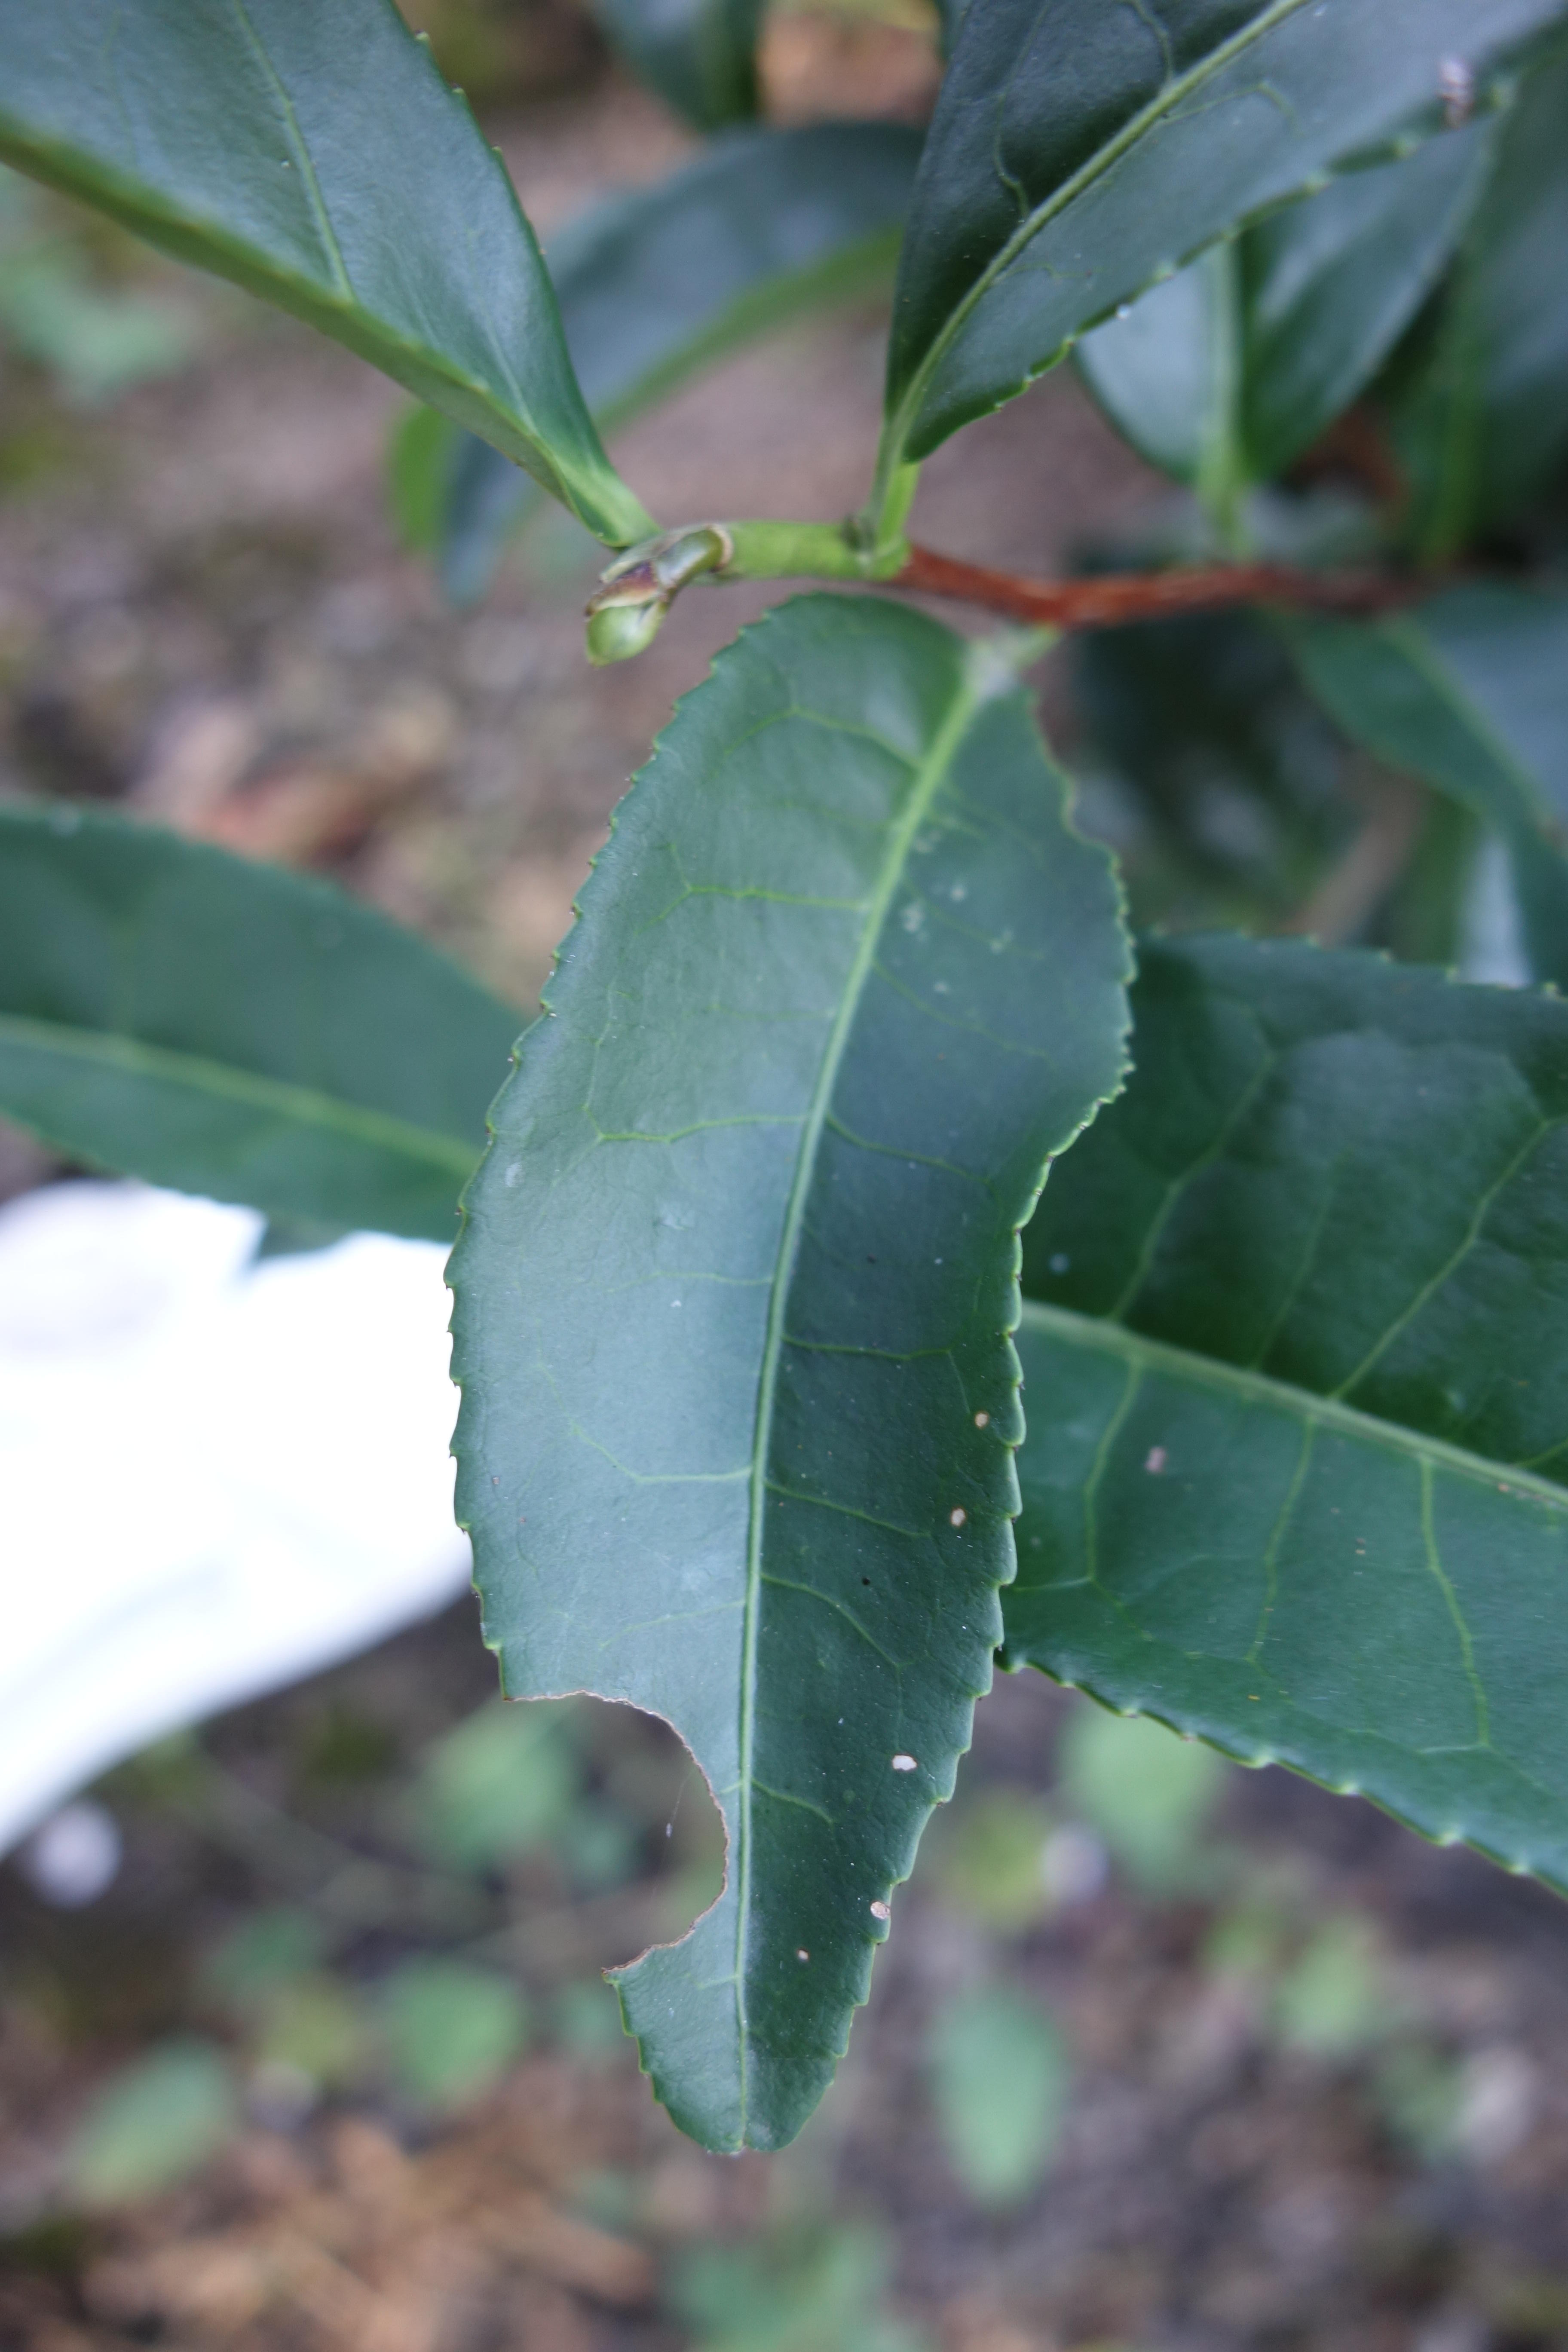chihuo_low: (439, 591, 1136, 2166)
